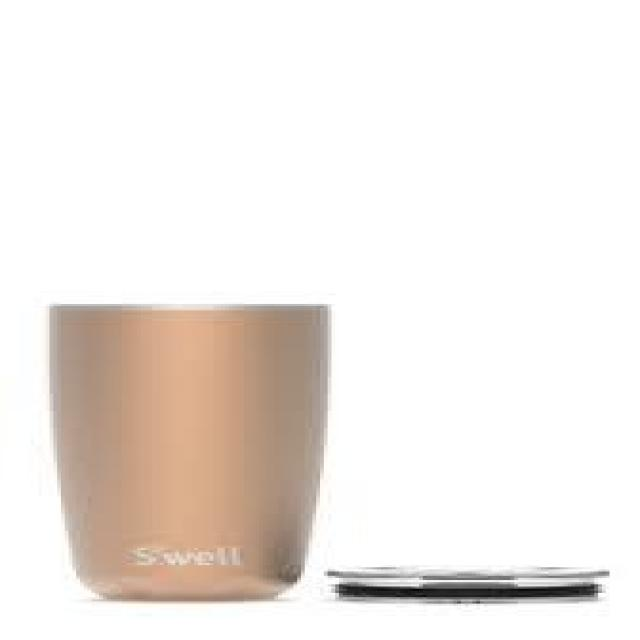bottle: (42, 294, 339, 602)
